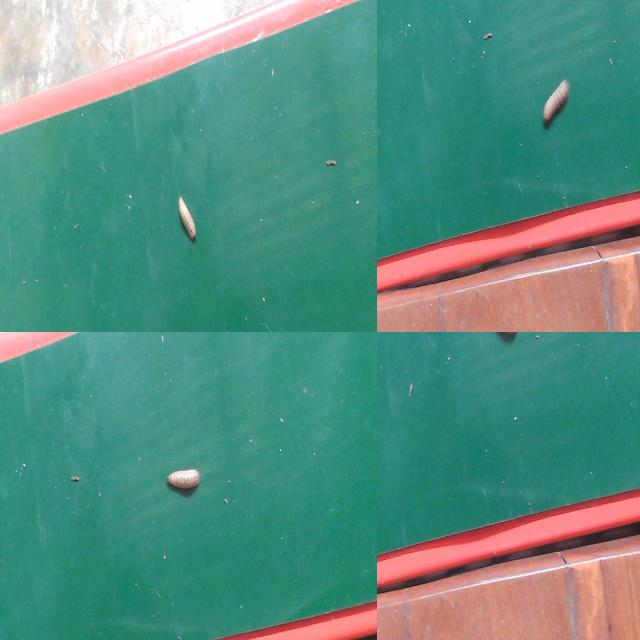Maggot: (539, 78, 572, 131), (174, 194, 200, 244), (165, 468, 202, 498)
